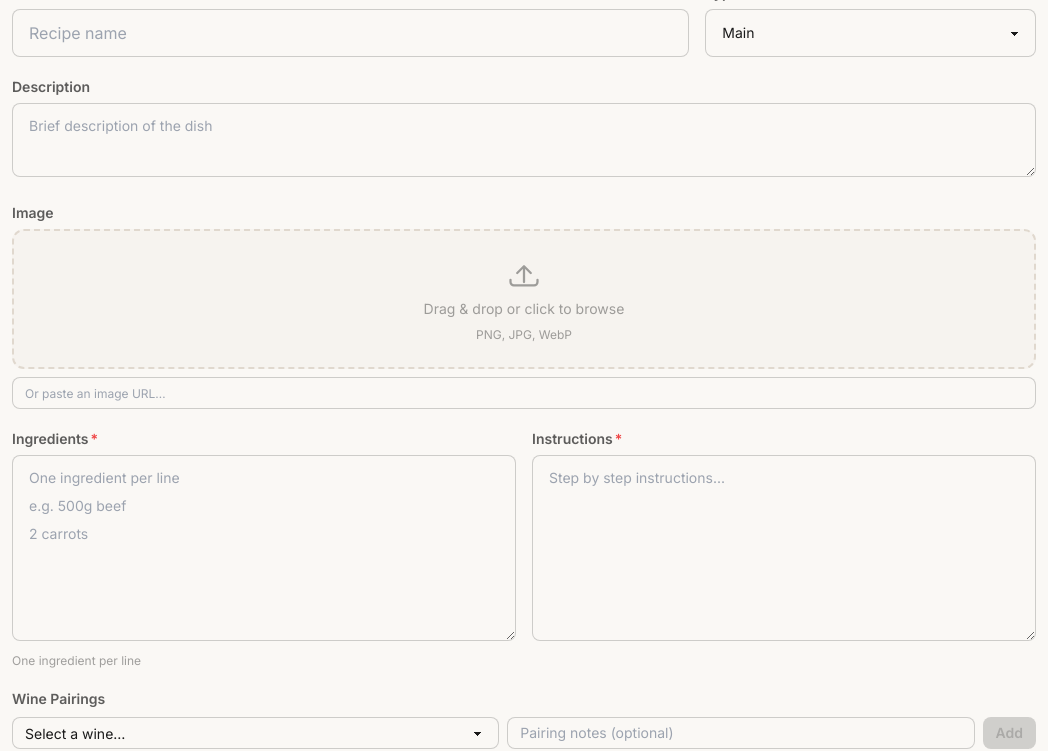
Test case: RecipeForm › shows validation error when ingredients are empty
Type "Boeuf Bourguignon" into the field with test id "recipe-name-input".
click(351, 33); type("Boeuf Bourguignon")  # box [12,9,689,57]
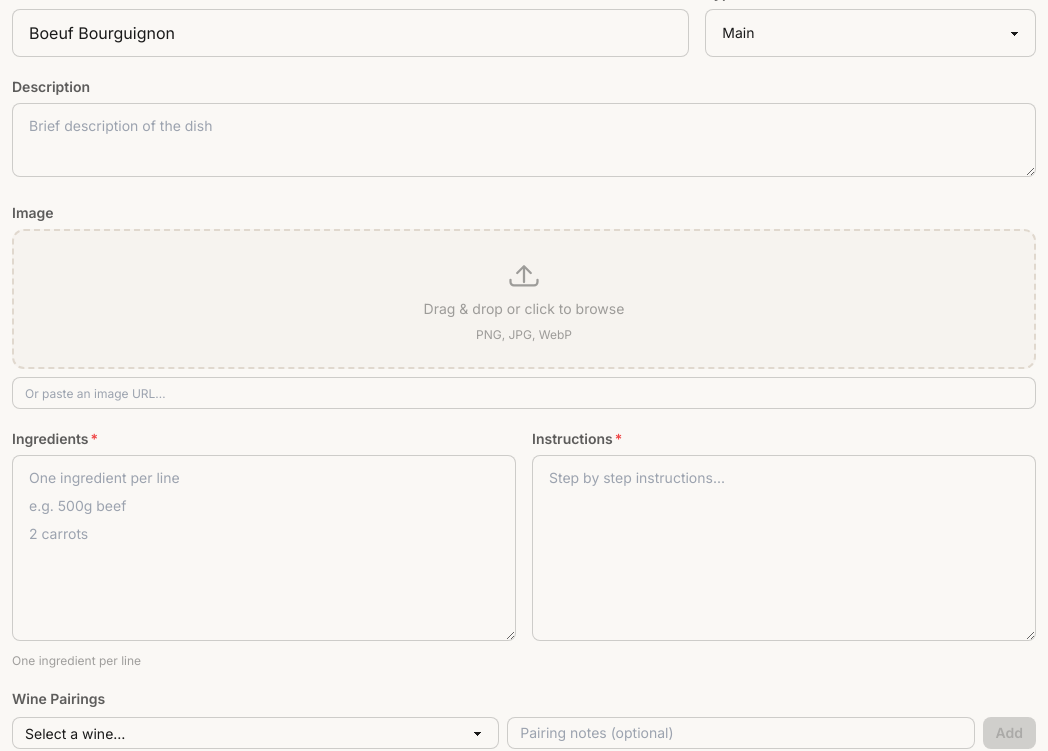
Type "Some instructions" into the text box with test id "recipe-instructions-input".
click(784, 548); type("Some instructions")  # box [532,455,1036,641]
(page scrolled)
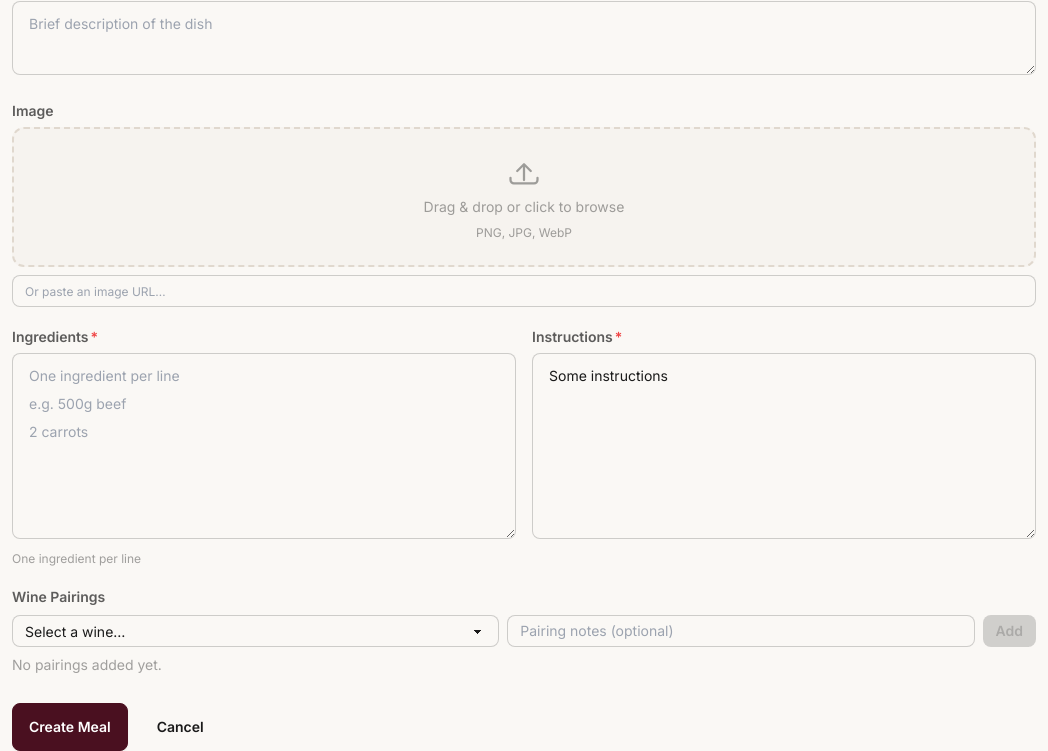
Click the button with test id "recipe-submit-btn".
click(70, 727)  # box [12,703,128,750]
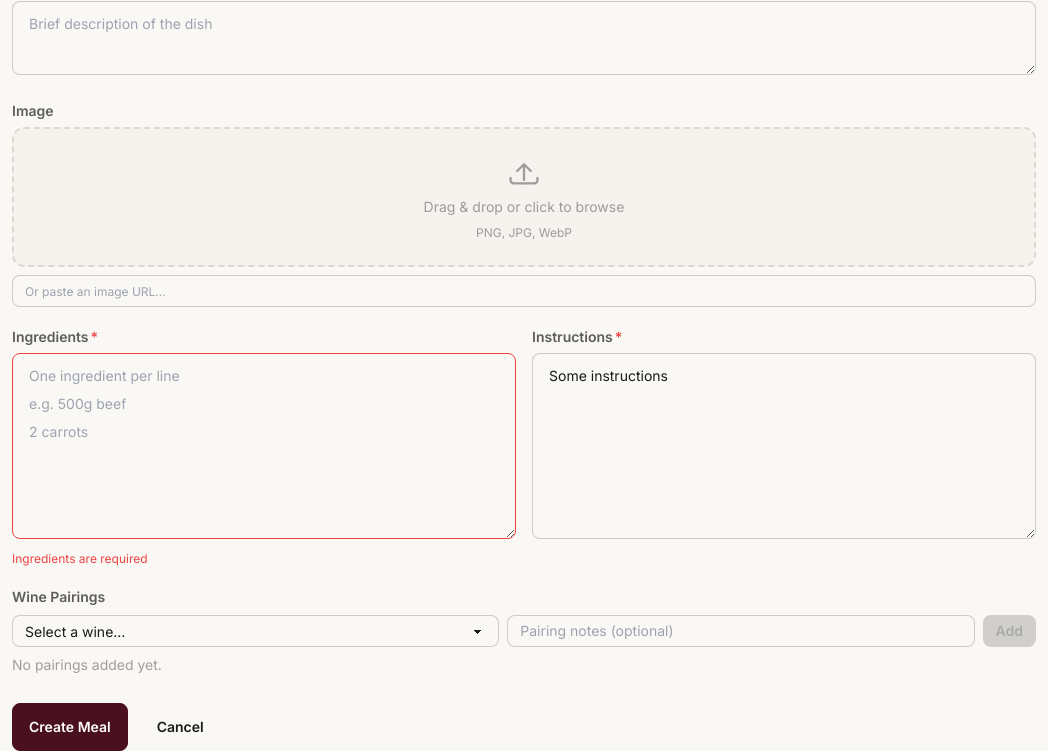
Expected: the text "Ingredients are required" is shown, [12,551,148,566]
